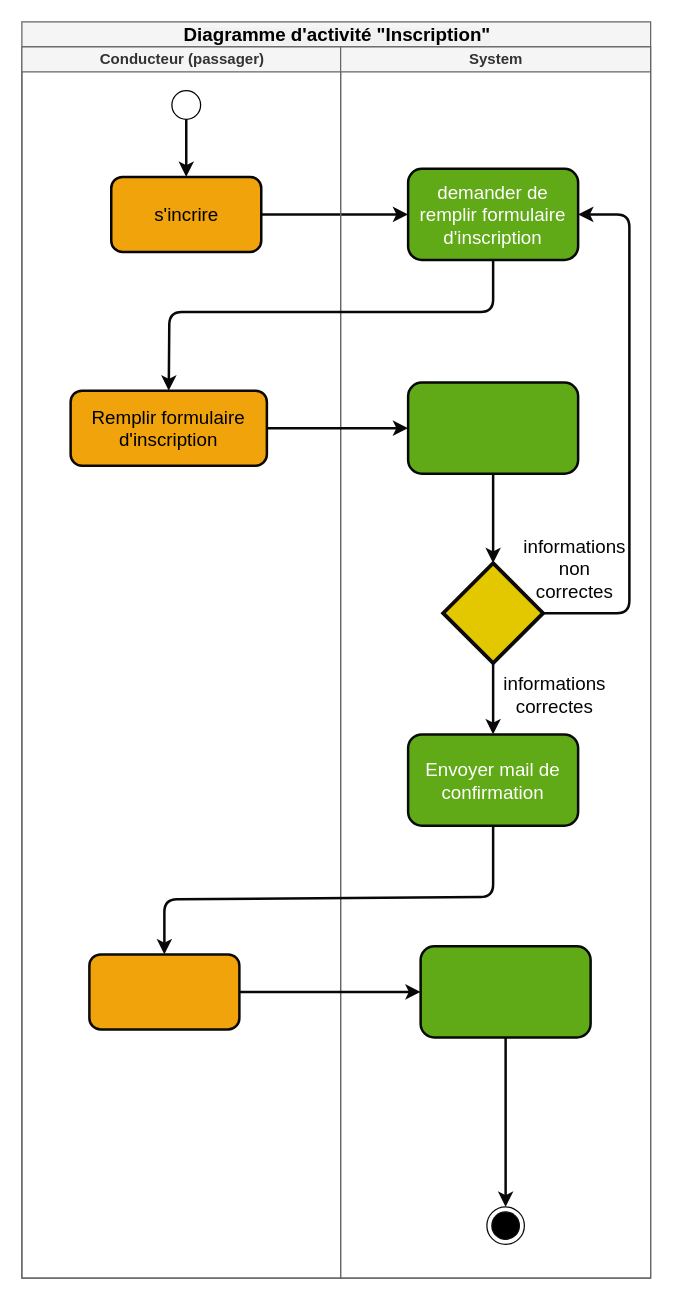
This 673x1300 diagram has some shape labels left out. Here are the shapes that lost their labels. From the top down, the centre of each, then its label:
(492,427): verifier informations personneles saisies
(164,991): Confirmer inscription
(505,991): Enregistrer confirmation d'inscription
